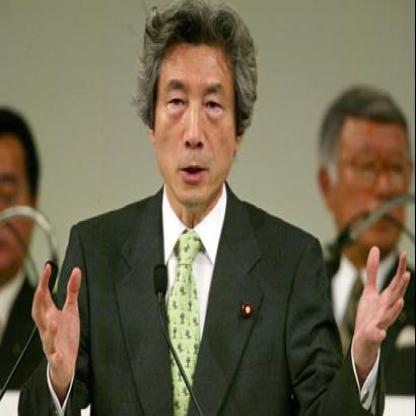face: (155, 20, 239, 209), (332, 94, 416, 258), (1, 114, 36, 275)
